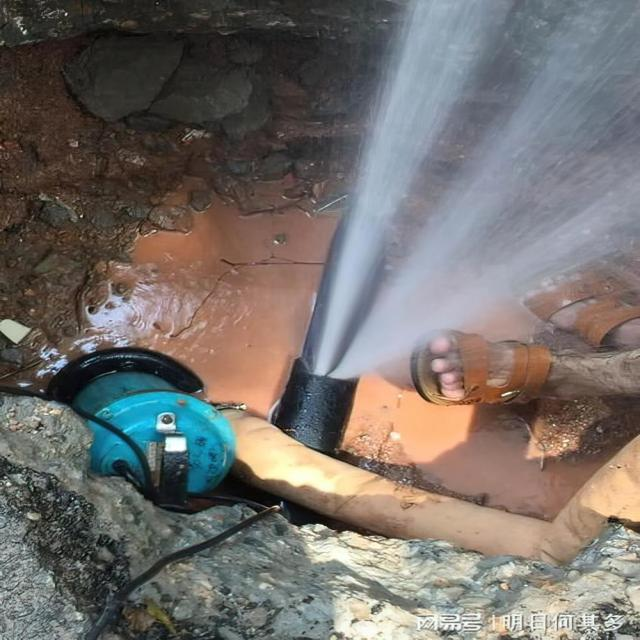leak: (306, 0, 639, 378)
